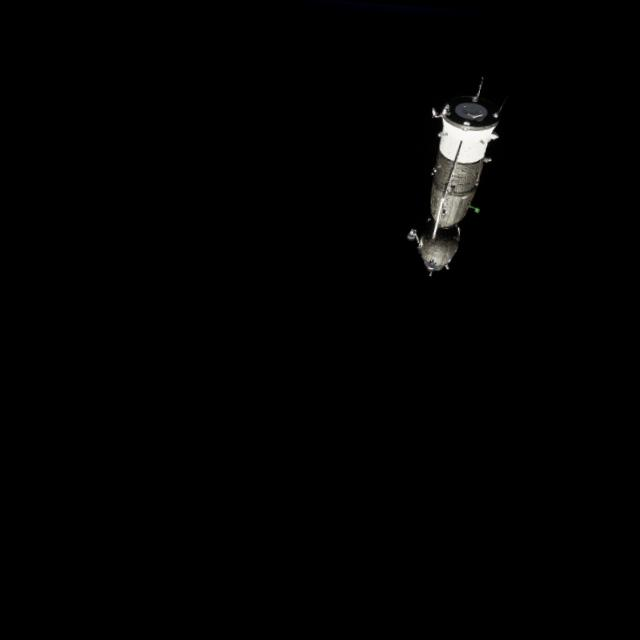Satellites revolving around earth: (402, 70, 508, 282)
